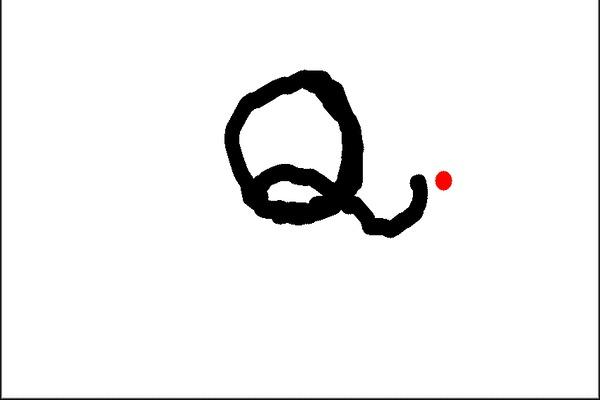Q: (212, 63, 431, 246)
